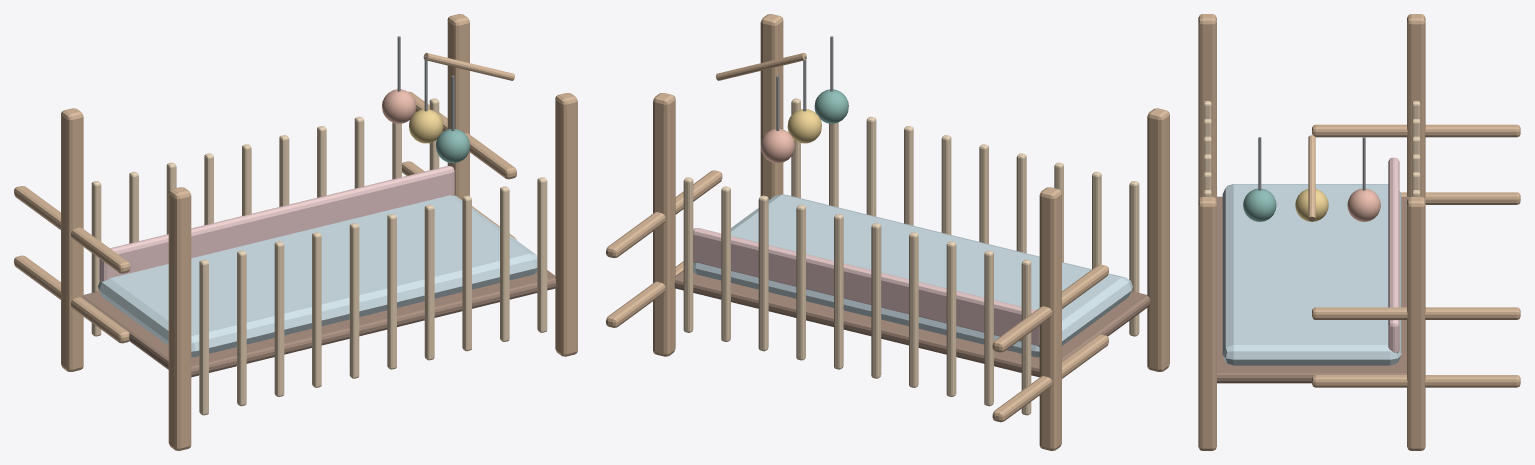
Rendered from cot.glb.
3 views of the same model, side by side, from view 1: azimuth 30°, elevation 25°; view 2: azimuth 150°, elevation 25°; view 3: azimuth 270°, elevation 25° (orthographic). The views are drawn at different scales.
Parts seen in each view (by area): view 1: Cot mattress, Cot bumper, Cot base, Cot post.001, Cot post.003, Cot post, Cot post.002, Cot rail L.001, Cot rail L, Cot slat.013, Cot slat.009, Cot slat.005 (+20 smaller); view 2: Cot mattress, Cot bumper, Cot base, Cot post.001, Cot post.002, Cot post, Cot post.003, Cot rail L.001, Cot rail L, Cot slat.014, Cot slat.018, Cot slat.004 (+22 smaller); view 3: Cot mattress, Cot post.003, Cot post.002, Cot base, Cot post.001, Cot post, Cot rail L.001, Cot rail R, Cot rail R.001, Cot bumper, Cot rail L, Cot mobile shape.002 (+3 smaller).
Part boxes in pixels (bbox=[...]): Cot mattress: bbox=[98, 195, 537, 357]; Cot bumper: bbox=[99, 166, 454, 282]; Cot base: bbox=[82, 270, 556, 377]; Cot post.001: bbox=[168, 187, 191, 450]; Cot post.003: bbox=[555, 93, 577, 356]; Cot post: bbox=[61, 108, 83, 371]; Cot post.002: bbox=[447, 14, 469, 199]; Cot rail L.001: bbox=[14, 186, 130, 273]; Cot rail L: bbox=[14, 255, 129, 343]; Cot slat.013: bbox=[424, 204, 434, 360]; Cot slat.009: bbox=[349, 223, 359, 378]; Cot slat.005: bbox=[274, 241, 284, 396]; Cot mattress: bbox=[693, 194, 1132, 357]; Cot bumper: bbox=[693, 228, 1039, 346]; Cot base: bbox=[674, 270, 1150, 377]; Cot post.001: bbox=[1147, 108, 1169, 371]; Cot post.002: bbox=[653, 93, 675, 356]; Cot post: bbox=[1039, 187, 1061, 450]; Cot post.003: bbox=[760, 14, 783, 199]; Cot rail L.001: bbox=[992, 264, 1108, 352]; Cot rail L: bbox=[992, 334, 1108, 422]; Cot slat.014: bbox=[758, 195, 768, 351]; Cot slat.018: bbox=[683, 177, 693, 332]; Cot slat.004: bbox=[946, 241, 956, 396]; Cot mattress: bbox=[1222, 184, 1401, 365]; Cot post.003: bbox=[1198, 196, 1216, 450]; Cot post.002: bbox=[1407, 196, 1425, 450]; Cot base: bbox=[1215, 196, 1408, 383]; Cot post.001: bbox=[1198, 14, 1216, 200]; Cot post: bbox=[1407, 14, 1425, 198]; Cot rail L.001: bbox=[1312, 124, 1520, 137]; Cot rail R: bbox=[1312, 375, 1520, 387]; Cot rail R.001: bbox=[1312, 307, 1520, 319]; Cot bumper: bbox=[1388, 157, 1399, 353]; Cot rail L: bbox=[1400, 192, 1520, 204]; Cot mobile shape.002: bbox=[1243, 188, 1276, 221].
Bounding box in the file's own units: 1.21 × 0.8091 × 0.865.
